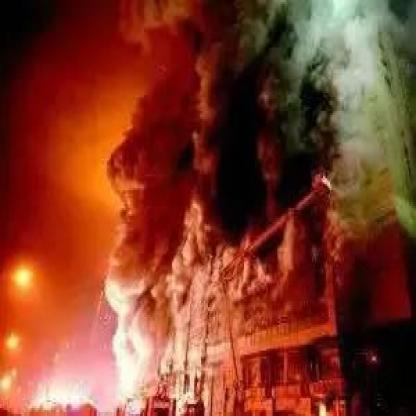smoke: (108, 1, 347, 232)
